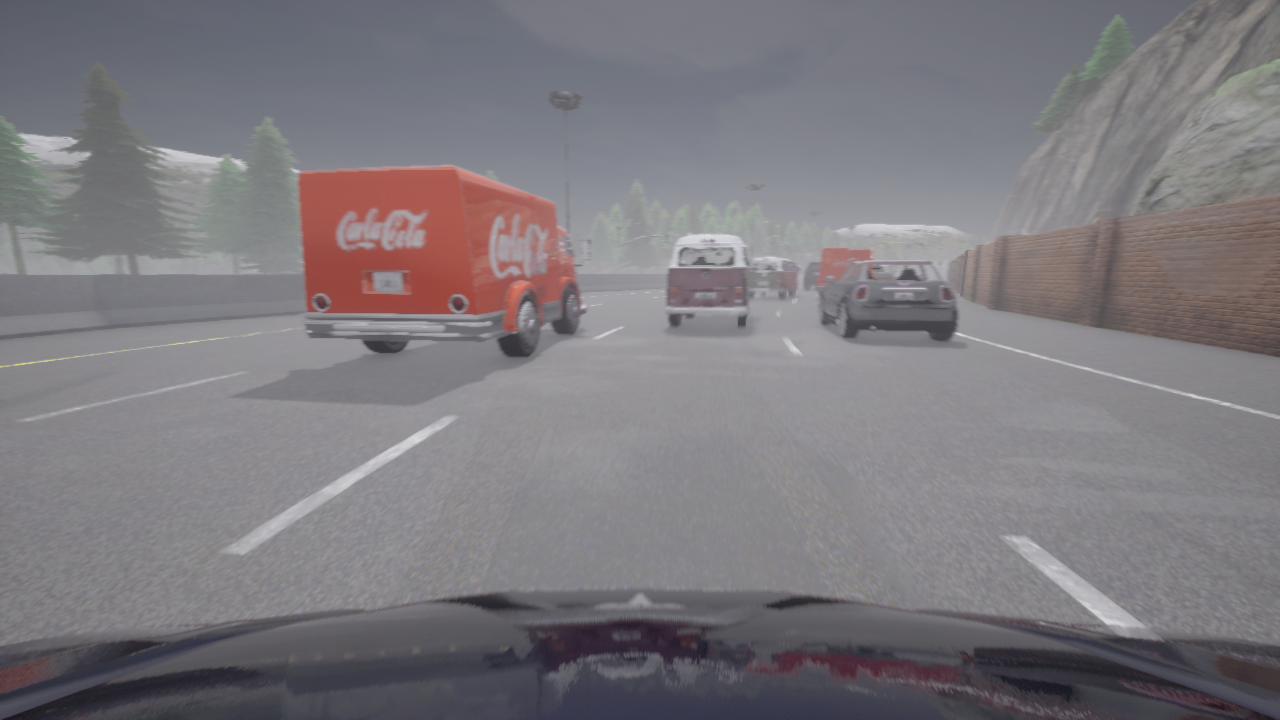cyclist: (0, 588, 1279, 719), (297, 165, 590, 357), (819, 260, 957, 341), (665, 234, 756, 327), (817, 247, 874, 296), (749, 256, 799, 298), (804, 262, 820, 289)
